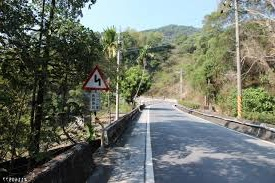Double_bend_left: (82, 65, 109, 89)
